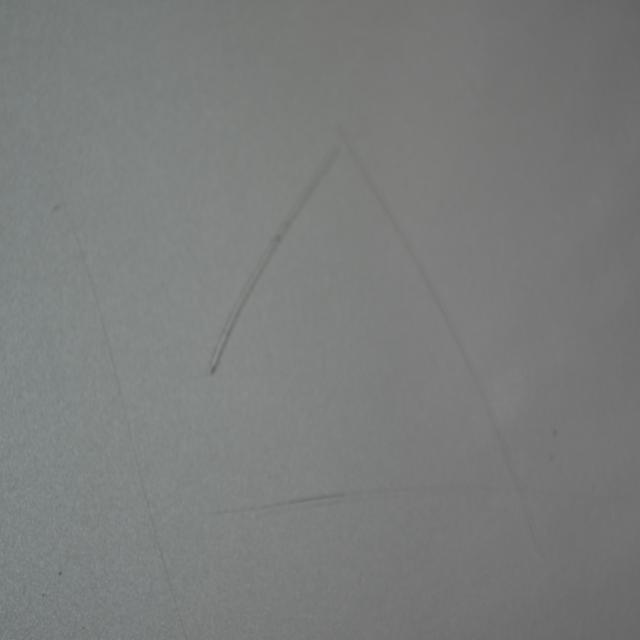scratch: (340, 115, 547, 548), (40, 148, 192, 640), (198, 133, 345, 385), (185, 474, 592, 530)
